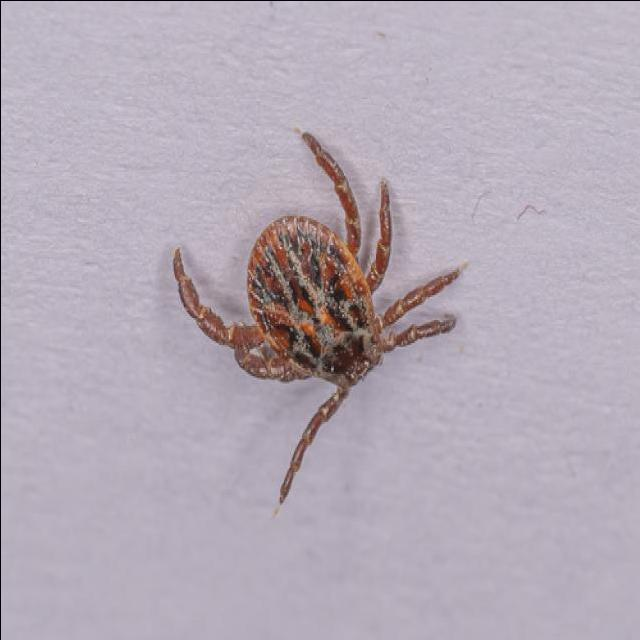Dermacentor Reticulatus-M: (169, 131, 463, 498)
